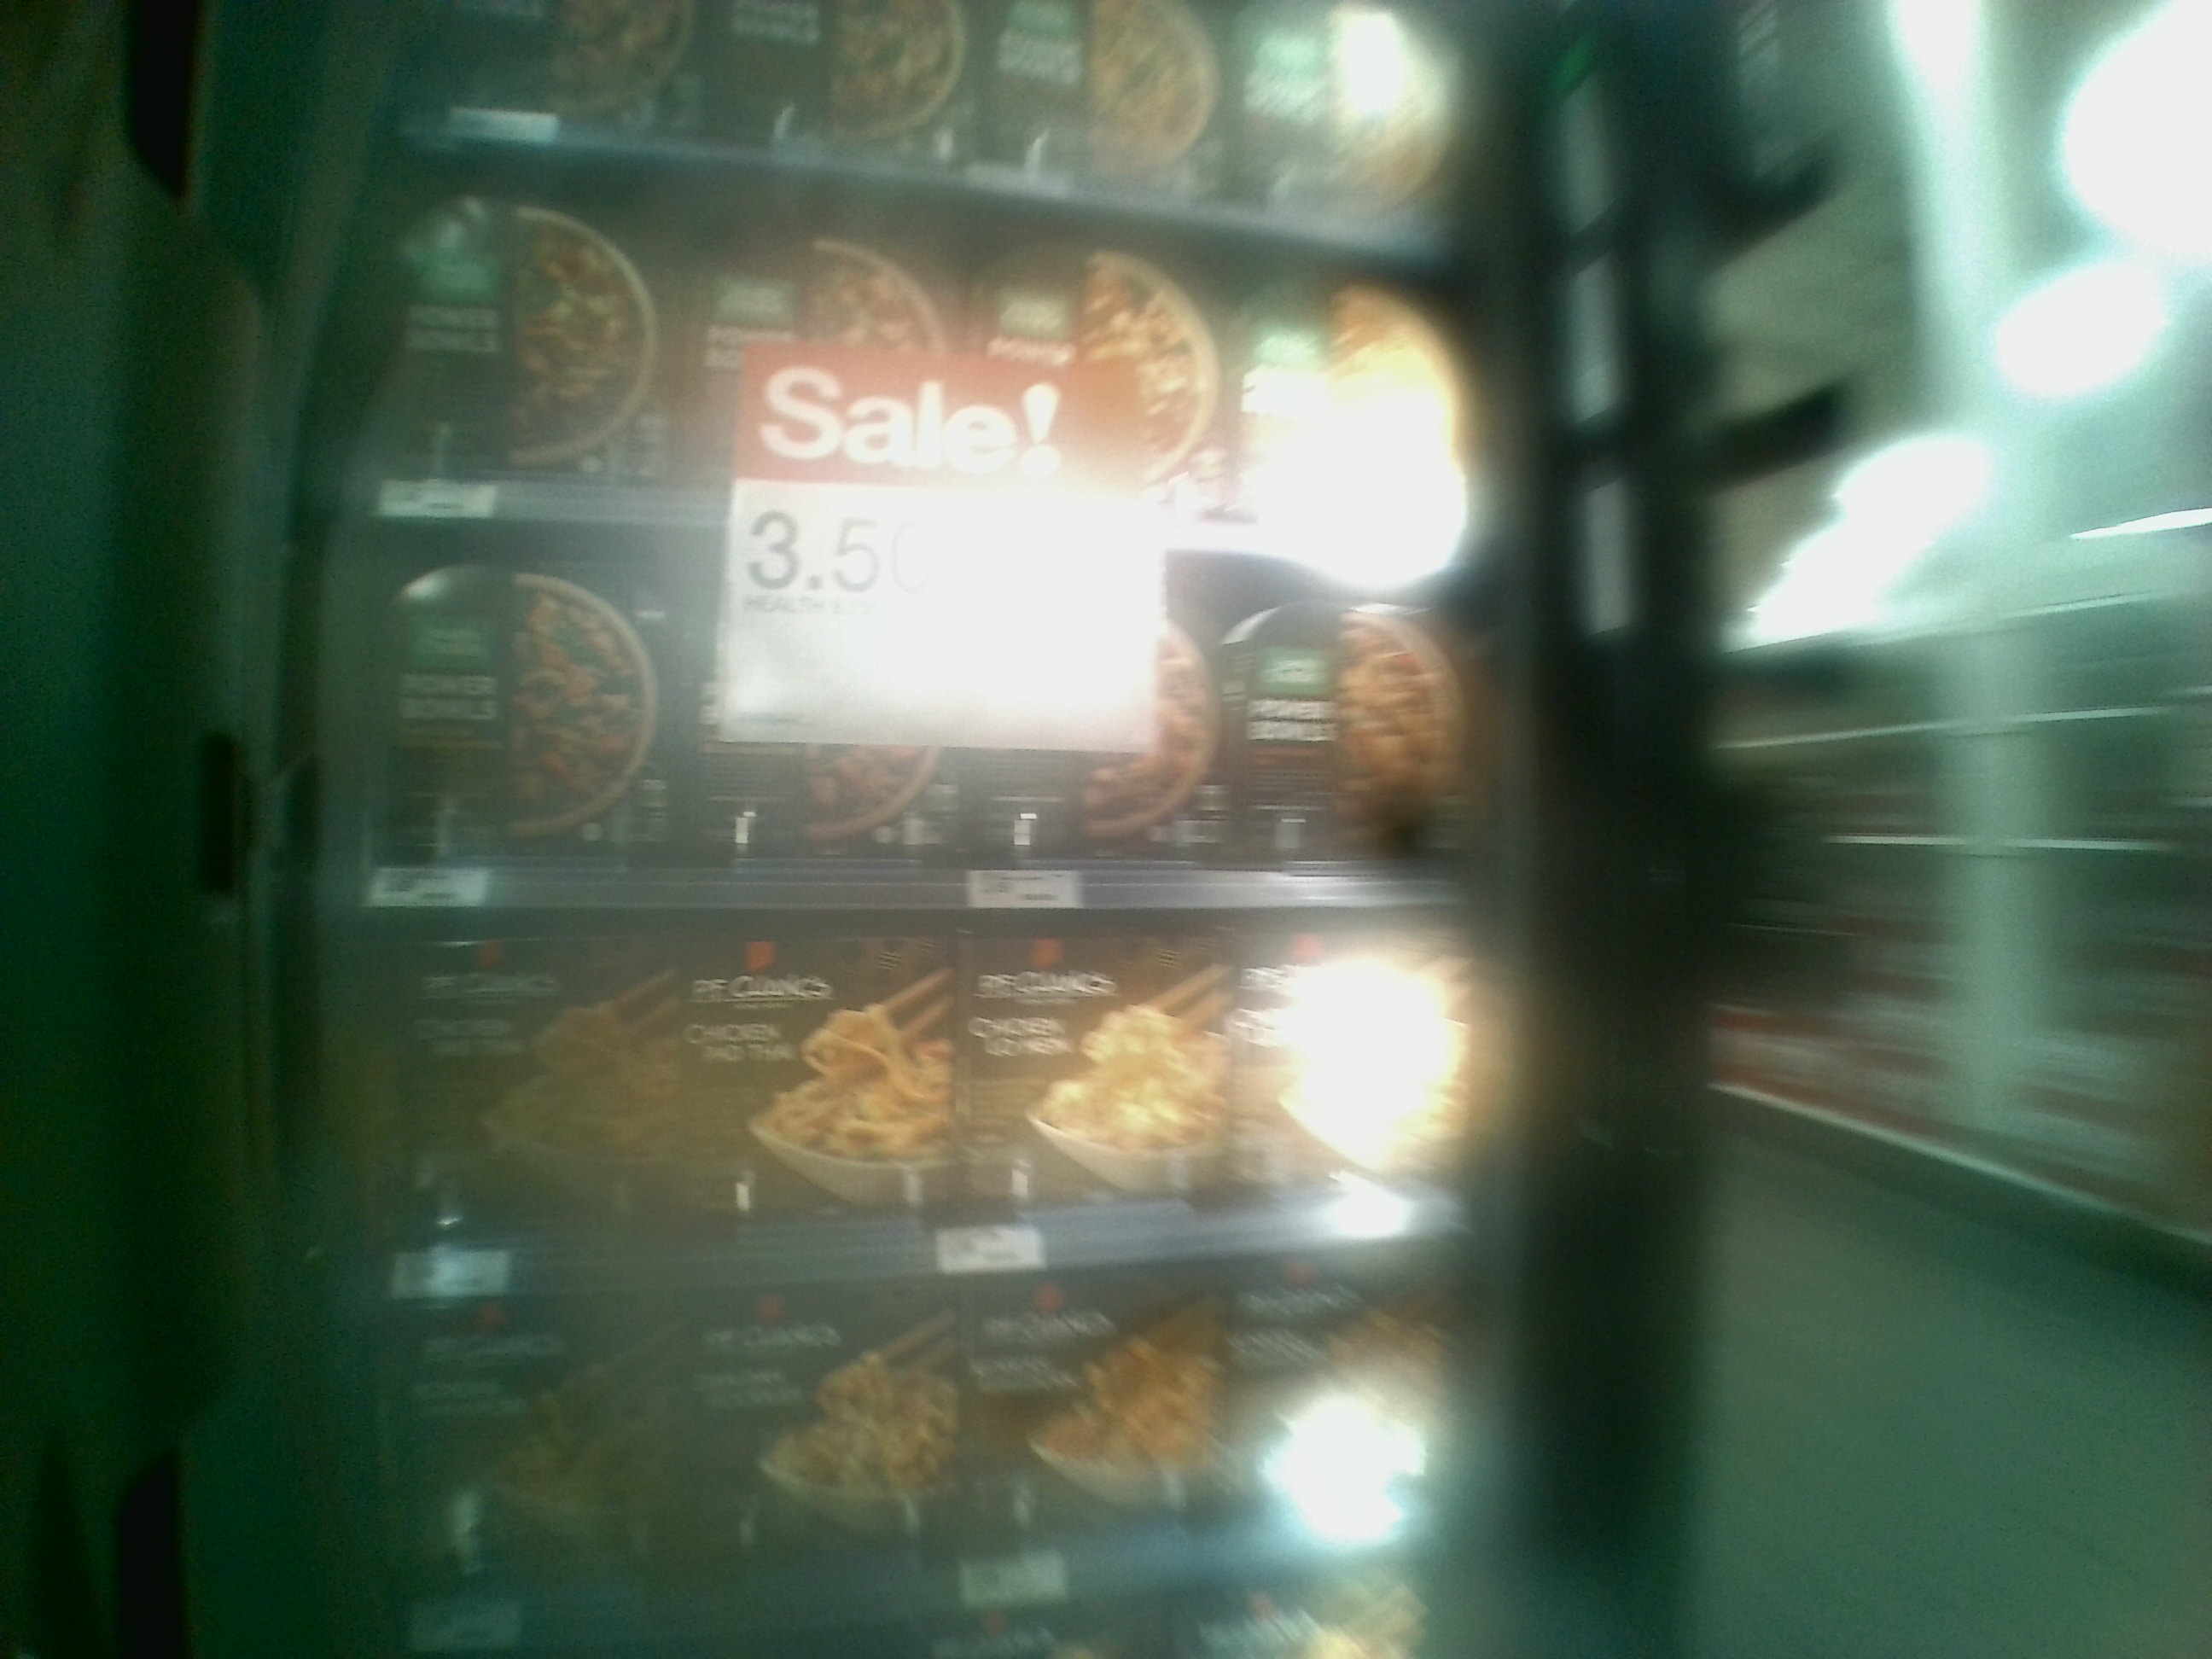shelf: (348, 516, 1510, 922), (361, 908, 1479, 1310)
